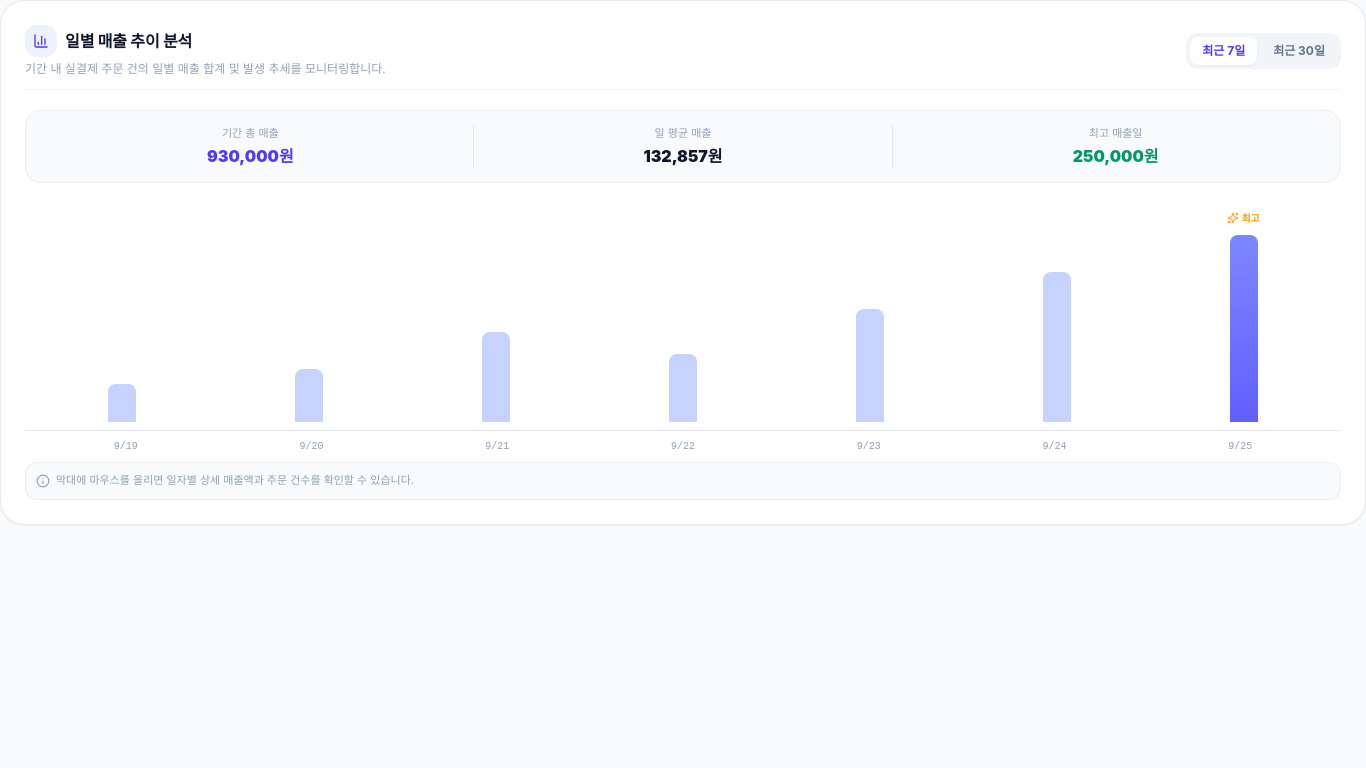
Scenario: AdminSalesChart Component › 마우스를 차트 막대에 올렸을 때 툴팁에 상세 일자, 주문 건수, 매출액이 표시된다
The image size is (1366, 768).
Hover over the element with class "cursor-pointer" showing "최고" at (1244, 328), box [1230, 234, 1258, 422]
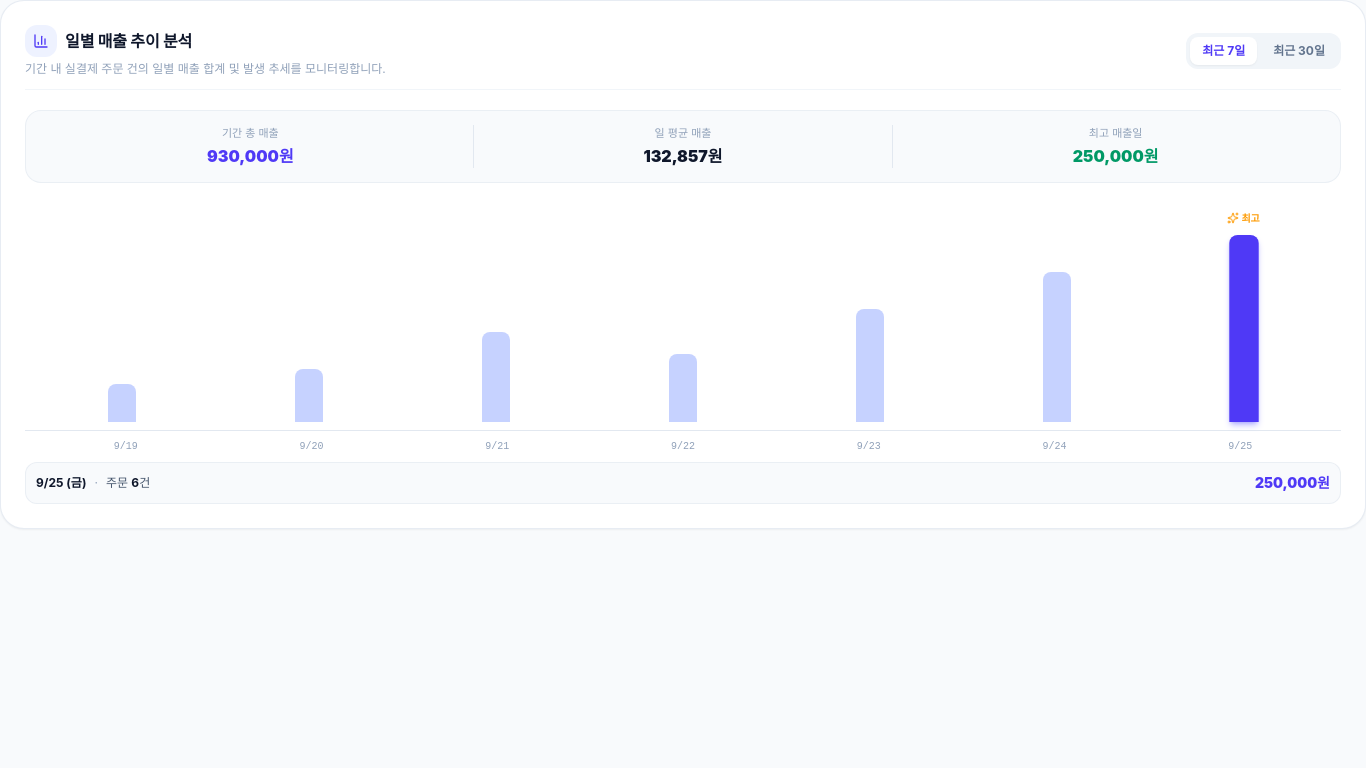
expect the text "250,000원" is shown 2 times: met, box [1073, 146, 1159, 166]; [1255, 472, 1330, 492]
expect the text "9/25 (금)" is shown: met, box [36, 474, 86, 490]
expect the text "6" is shown: met, box [131, 474, 139, 490]
